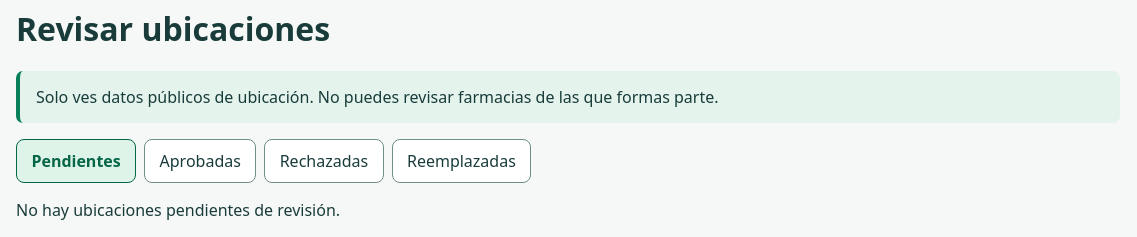
Test: F07.2 · «Revisar ubicaciones» (FR-005, FR-008, FR-009, T009) › «Reemplazadas» vacío
Check: the text "No hay ubicaciones pendientes de revisión." is shown, box [16,199,340,221]
Click the button "Reemplazadas". click: [461, 161]
box: [392,139,531,183]
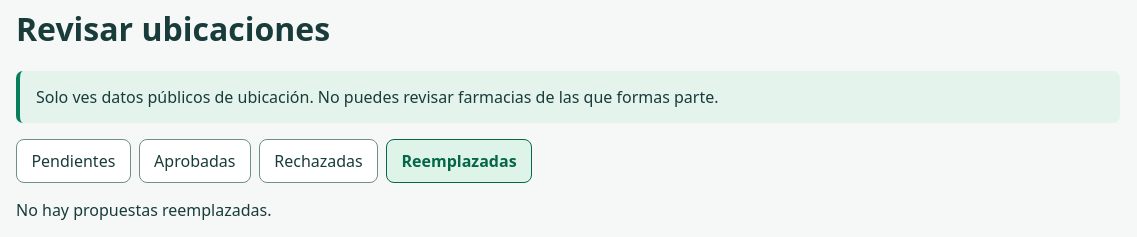
Check: the text "No hay propuestas reemplazadas." is shown, box [16,199,272,221]
